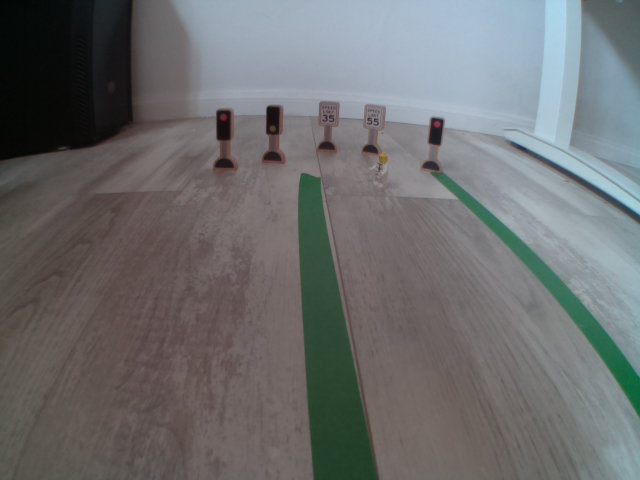Green Traffic Light: (263, 104, 283, 137)
Red Traffic Light: (212, 106, 234, 144), (428, 115, 445, 149)
Speed Limit 35: (318, 98, 339, 128)
Speed Limit 55: (362, 103, 385, 130)
person: (366, 152, 392, 187)
